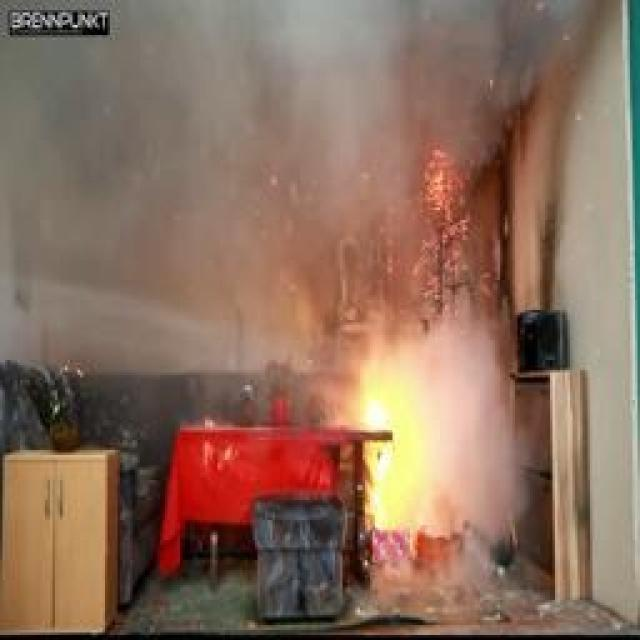fire: (340, 334, 442, 538)
